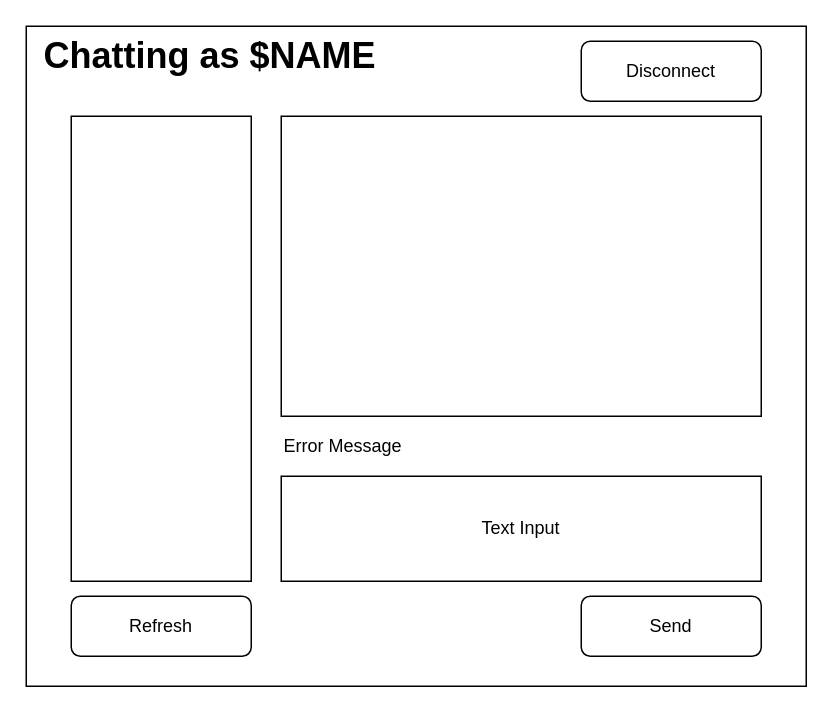
The diagram is 833 pixels wide and 713 high, and some of its shapes have lost their labels. Here are the shapes that lost their labels. From the top down, the centre of each, then its label:
point (520, 265): Messages
point (160, 348): List of Clients
